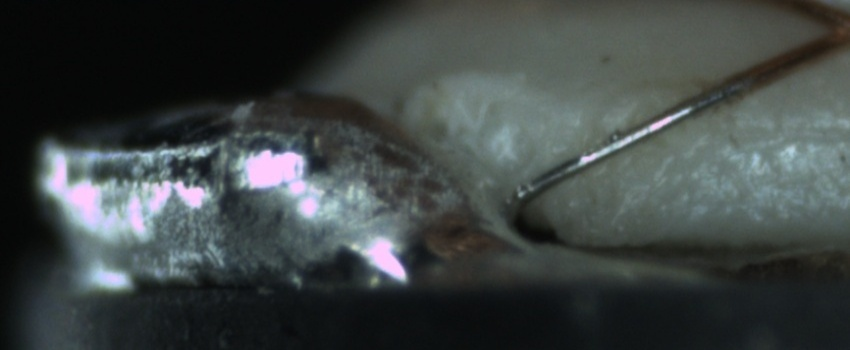CL: (800, 2, 850, 61)
DL: (690, 105, 849, 169)
TS: (512, 77, 743, 210)
